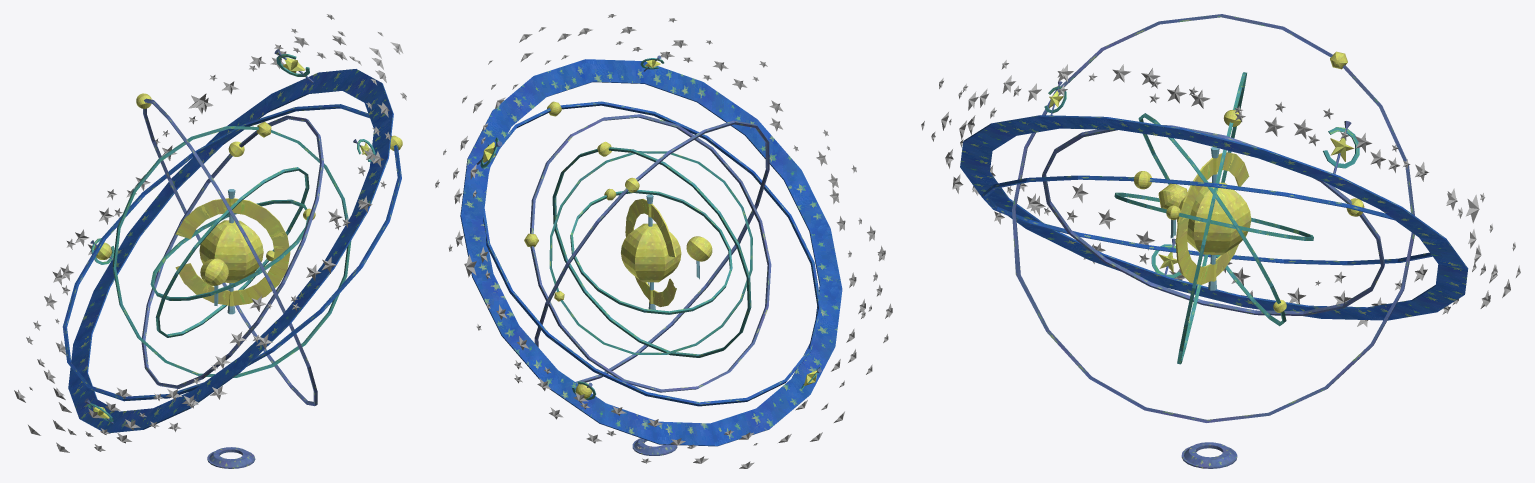
File: observatorio.gltf
3 renders of one model, left to right at view 1: azimuth 30°, elevation 25°; view 2: azimuth 150°, elevation 25°; view 3: azimuth 270°, elevation 25°, orthographic. The views are drawn at different scales.
Visible parts, largest first — view 1: pCylinder36_q00152.002, pCylinder37_q00267.002, pCylinder42_q00281.001, pCylinder39_q00271.002, pCylinder40_q00273.002, pSphere4_q00279.002, pCylinder38_q00269.002, pCylinder41_q00275.002, pCylinder42_q00277.002, S11_dai_b_part1.002, pSphere4_q00282.002; view 2: pCylinder36_q00152.002, pCylinder37_q00267.002, pCylinder39_q00271.002, pCylinder38_q00269.002, pSphere4_q00279.002, pCylinder40_q00273.002, pCylinder41_q00275.002, pCylinder42_q00277.002, pCylinder42_q00281.001, pSphere4_q00282.002, S11_dai_b_part1.002; view 3: pCylinder36_q00152.002, pCylinder38_q00269.002, pCylinder37_q00267.002, pCylinder39_q00271.002, pSphere4_q00279.002, pCylinder42_q00281.001, pCylinder40_q00273.002, pCylinder41_q00275.002, pCylinder42_q00277.002, S11_dai_b_part1.002.
Boxes of the visible parts, <box> form: pCylinder36_q00152.002: <box>68,69,393,432</box>; pCylinder37_q00267.002: <box>62,104,401,401</box>; pCylinder42_q00281.001: <box>175,198,290,305</box>; pCylinder39_q00271.002: <box>141,115,324,388</box>; pCylinder40_q00273.002: <box>112,126,351,377</box>; pSphere4_q00279.002: <box>199,220,263,282</box>; pCylinder38_q00269.002: <box>143,98,317,406</box>; pCylinder41_q00275.002: <box>155,167,309,337</box>; pCylinder42_q00277.002: <box>150,199,309,300</box>; S11_dai_b_part1.002: <box>207,447,255,468</box>; pSphere4_q00282.002: <box>200,258,228,285</box>; pCylinder36_q00152.002: <box>460,59,842,446</box>; pCylinder37_q00267.002: <box>483,101,821,406</box>; pCylinder39_q00271.002: <box>530,114,771,392</box>; pCylinder38_q00269.002: <box>534,120,769,383</box>; pSphere4_q00279.002: <box>621,223,681,282</box>; pCylinder40_q00273.002: <box>552,147,751,357</box>; pCylinder41_q00275.002: <box>549,151,752,354</box>; pCylinder42_q00277.002: <box>570,190,732,314</box>; pCylinder42_q00281.001: <box>625,198,676,306</box>; pSphere4_q00282.002: <box>686,236,712,261</box>; S11_dai_b_part1.002: <box>632,438,677,455</box>; pCylinder36_q00152.002: <box>960,115,1468,320</box>; pCylinder38_q00269.002: <box>1012,14,1414,422</box>; pCylinder37_q00267.002: <box>982,175,1432,265</box>; pCylinder39_q00271.002: <box>1042,125,1384,315</box>; pSphere4_q00279.002: <box>1176,182,1251,255</box>; pCylinder42_q00281.001: <box>1175,152,1249,284</box>; pCylinder40_q00273.002: <box>1177,72,1246,364</box>; pCylinder41_q00275.002: <box>1138,113,1286,326</box>; pCylinder42_q00277.002: <box>1114,192,1313,240</box>; S11_dai_b_part1.002: <box>1181,442,1237,468</box>.
Bounding box in the file's own units: 32.32 × 34.47 × 40.85.
Materials: 6 (5 with a texture image).
